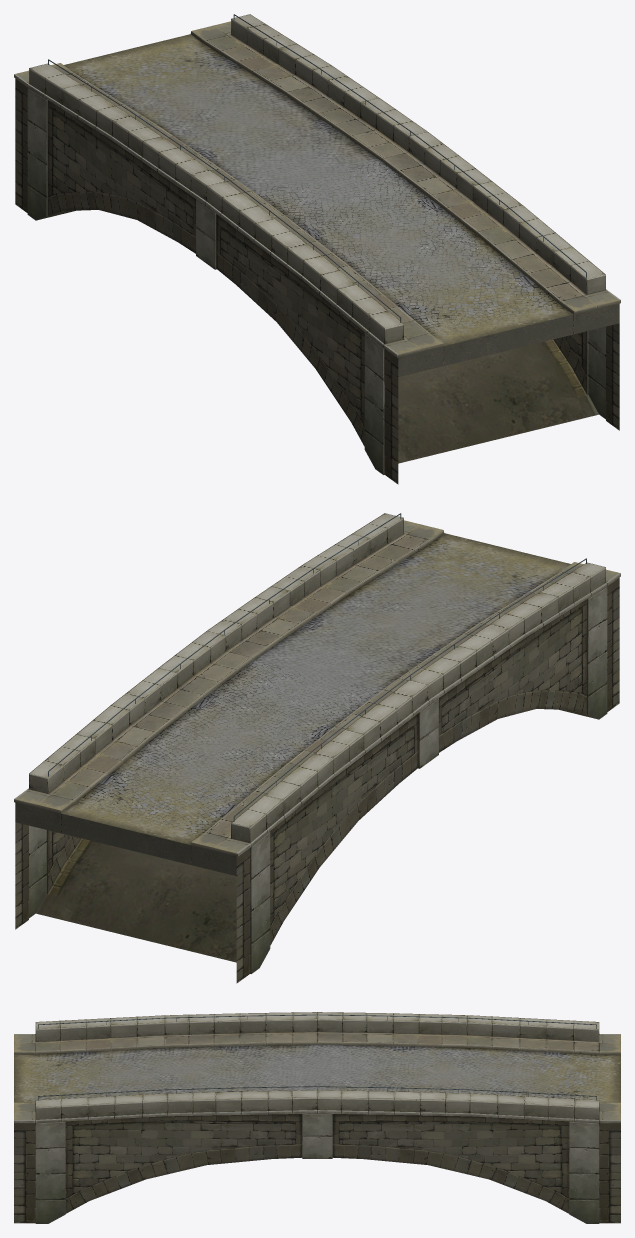
File: bridge.fbx
3 views of the same model, one above another, from view 1: azimuth 30°, elevation 25°; view 2: azimuth 150°, elevation 25°; view 3: azimuth 270°, elevation 25° (orthographic). The views are drawn at different scales.
Visible parts, largest first — view 1: GEOM0_LOD0; view 2: GEOM0_LOD0; view 3: GEOM0_LOD0.
Part boxes in pixels (bbox=[...]): GEOM0_LOD0: bbox=[14, 14, 620, 484]; GEOM0_LOD0: bbox=[14, 513, 620, 983]; GEOM0_LOD0: bbox=[14, 1012, 620, 1223].
Size of what is drawn, in the model's own units: 1012 by 709 by 3000.
